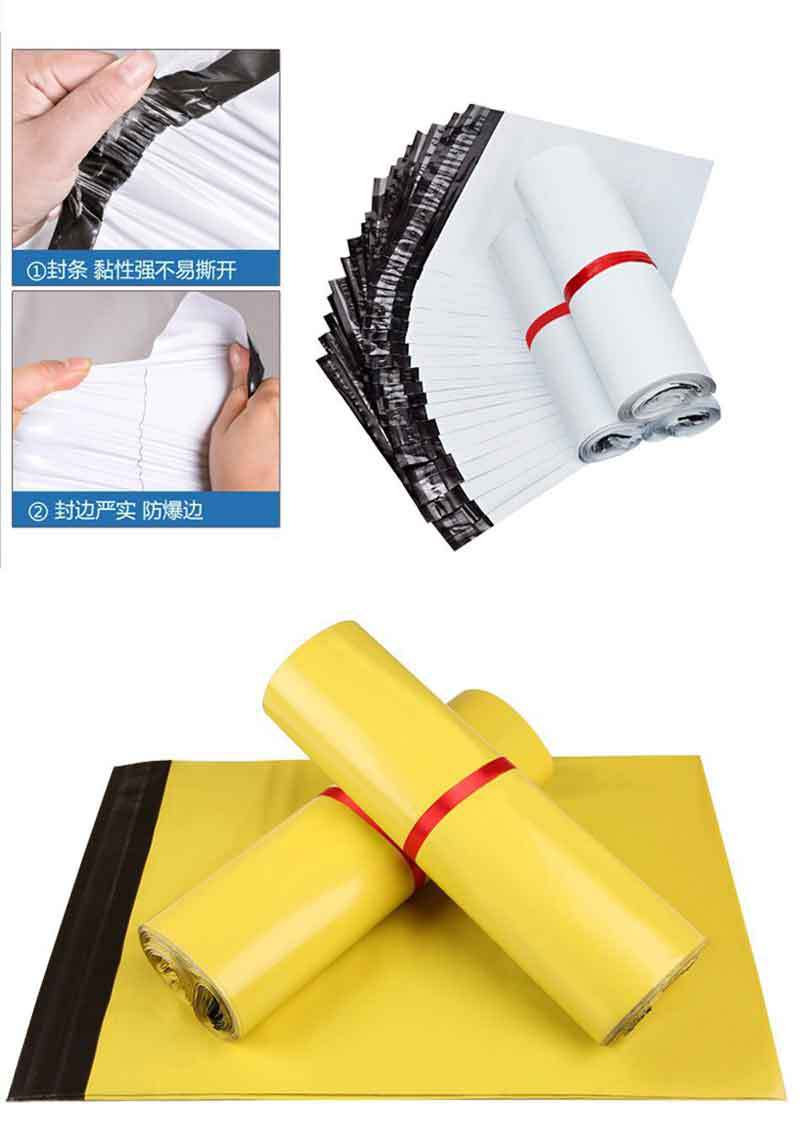塑料袋: (8, 620, 783, 1100), (257, 27, 800, 562)
